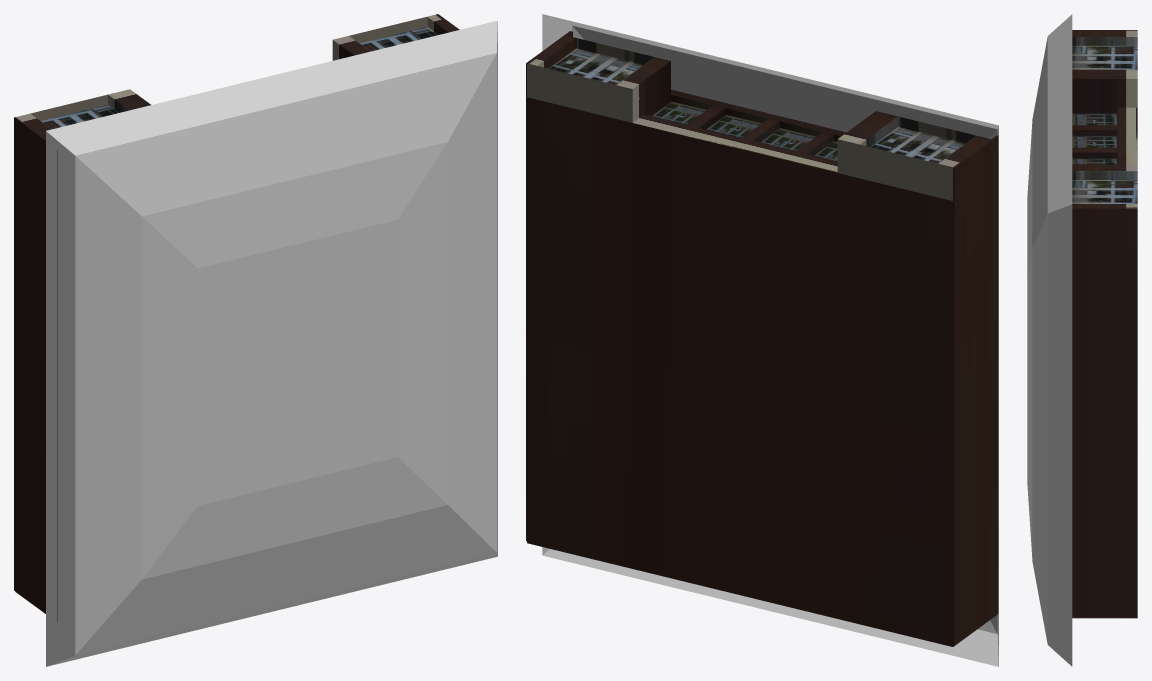
Rendered from yemekhane2.bina.fbx.
3 renders of one model, left to right at view 1: azimuth 30°, elevation 25°; view 2: azimuth 150°, elevation 25°; view 3: azimuth 270°, elevation 25°, orthographic. The views are drawn at different scales.
Visible parts, largest first — view 1: Plane.005, Cube, Plane; view 2: Cube.001, Plane, Cube, Plane.005, Cube.002; view 3: Cube.002, Plane.005, Plane.
Boxes of the visible parts, x1,y1,x2,y2 form: Plane.005: (46, 20, 497, 666); Cube: (14, 117, 57, 621); Plane: (16, 15, 456, 138); Cube.001: (527, 97, 953, 646); Plane: (527, 36, 990, 200); Cube: (953, 135, 998, 645); Plane.005: (542, 14, 998, 666); Cube.002: (526, 31, 572, 541); Cube.002: (1072, 207, 1137, 616); Plane.005: (1027, 14, 1072, 666); Plane: (1072, 30, 1137, 208).
Bounding box in the file's own units: 3000 × 3400 × 733.
